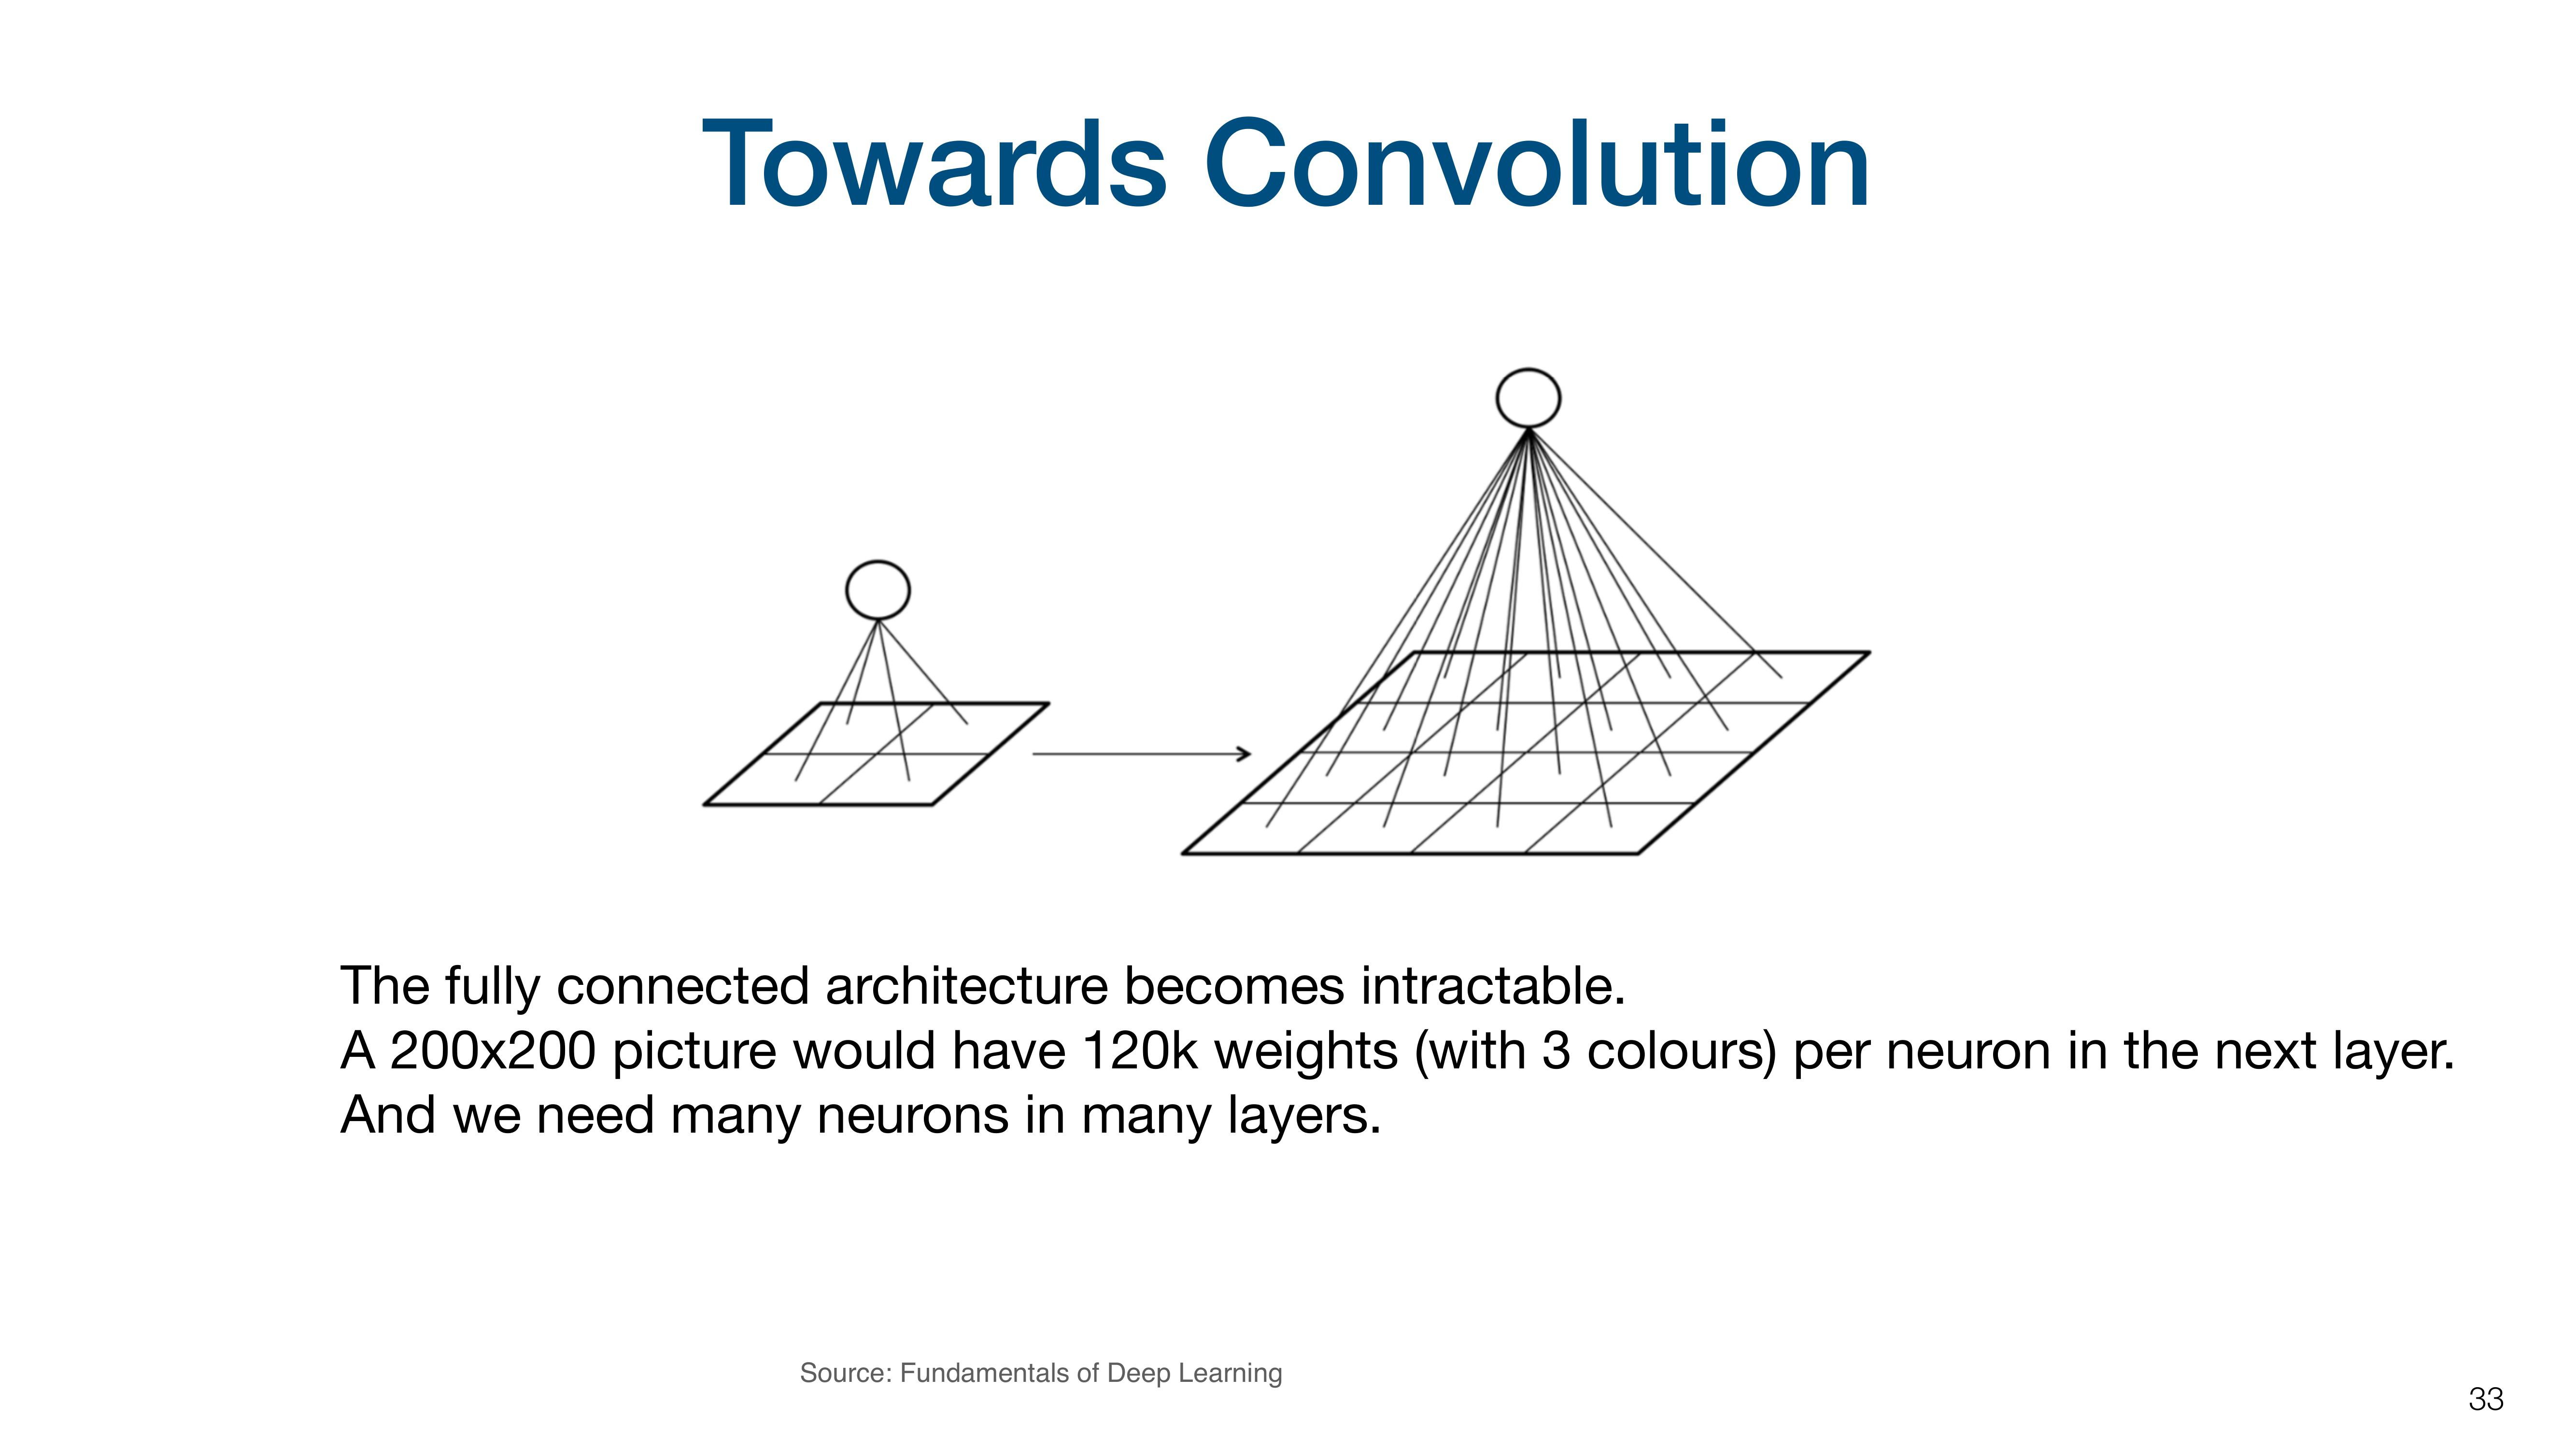Title: (685, 103, 1874, 260)
